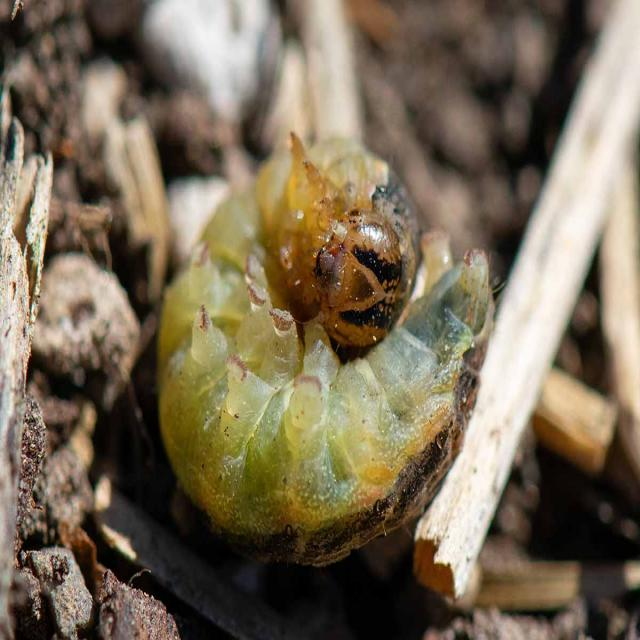cutworm: (149, 118, 483, 582)
